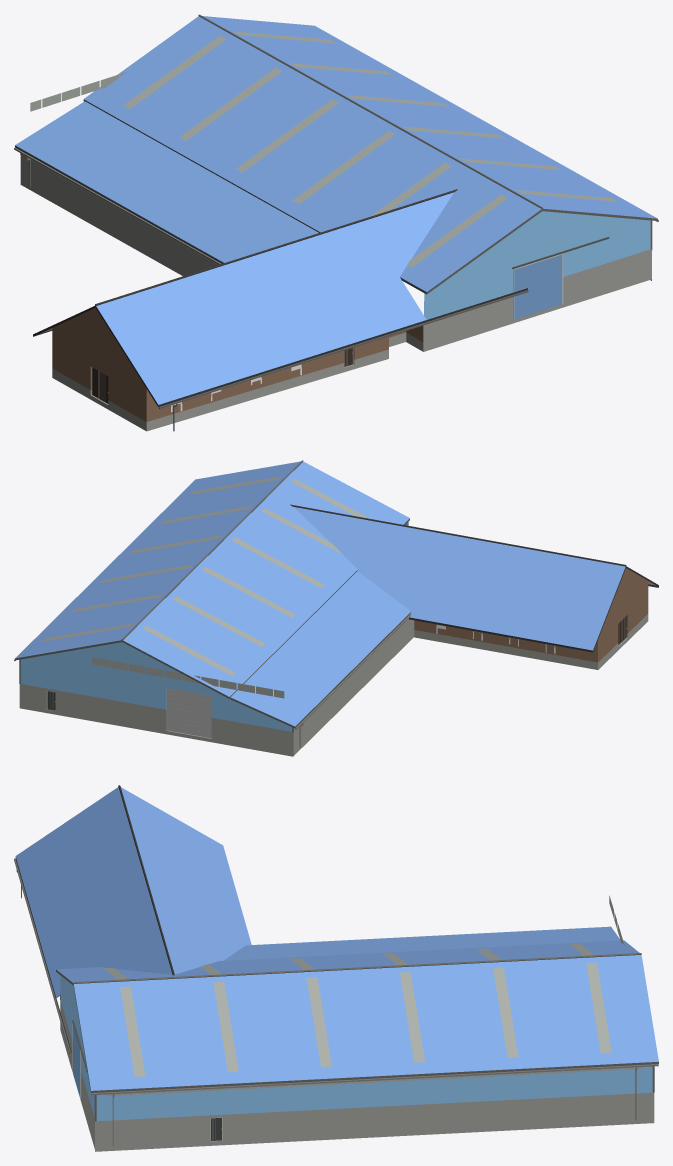
File: fb_hall_1030.glb
The picture shows the model from 3 angles, top to bottom: view 1: azimuth 30°, elevation 25°; view 2: azimuth 150°, elevation 25°; view 3: azimuth 270°, elevation 25°; orthographic projection. The views are drawn at different scales.
Visible parts, largest first — view 1: vh_roof, vh_plinth, vh_sheet, vh_light, vh_brick, vh_trim, vh_door, vh_frames_small; view 2: vh_roof, vh_plinth, vh_sheet, vh_light, vh_trim, vh_brick, vh_frames_small; view 3: vh_roof, vh_plinth, vh_sheet, vh_light, vh_trim, vh_frames_small.
Part boxes in pixels (x1,y1,x2,y2): vh_roof: (15, 16, 657, 404); vh_plinth: (20, 153, 651, 431); vh_sheet: (424, 211, 650, 319); vh_light: (28, 31, 617, 267); vh_brick: (52, 308, 423, 421); vh_trim: (15, 14, 657, 407); vh_door: (514, 254, 562, 319); vh_frames_small: (14, 147, 658, 431); vh_roof: (15, 461, 625, 726); vh_plinth: (19, 614, 648, 756); vh_sheet: (20, 522, 408, 731); vh_light: (41, 476, 369, 698); vh_trim: (15, 460, 658, 738); vh_brick: (414, 568, 648, 662); vh_frames_small: (14, 585, 658, 747); vh_roof: (15, 787, 658, 1090); vh_plinth: (60, 1000, 654, 1151); vh_sheet: (60, 975, 652, 1121); vh_light: (104, 895, 641, 1096); vh_trim: (15, 785, 658, 1140); vh_frames_small: (14, 858, 658, 1146).
Bounding box in the file's own units: 52.93 × 10.02 × 52.67.
